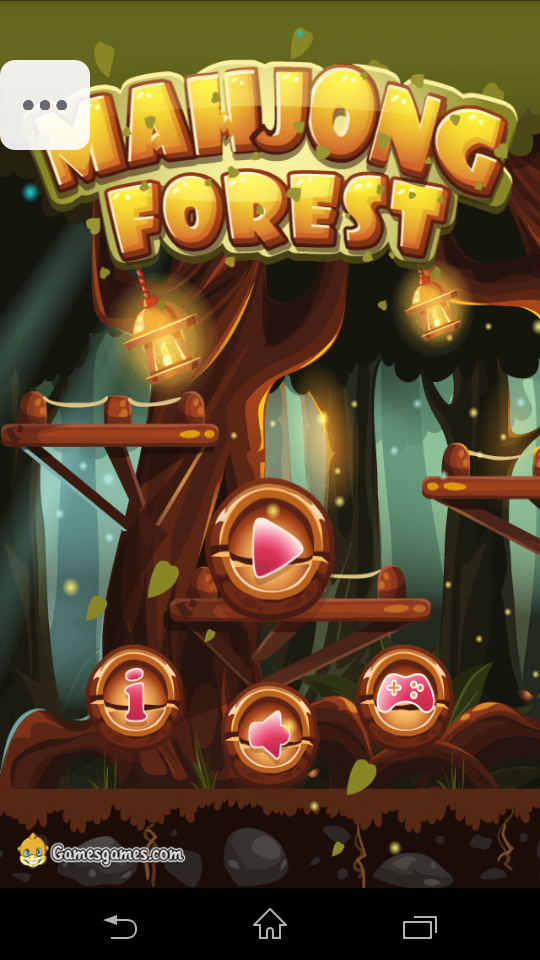imgbutton: (203, 477, 342, 625), (354, 641, 459, 754), (216, 681, 322, 782), (85, 641, 183, 743)
